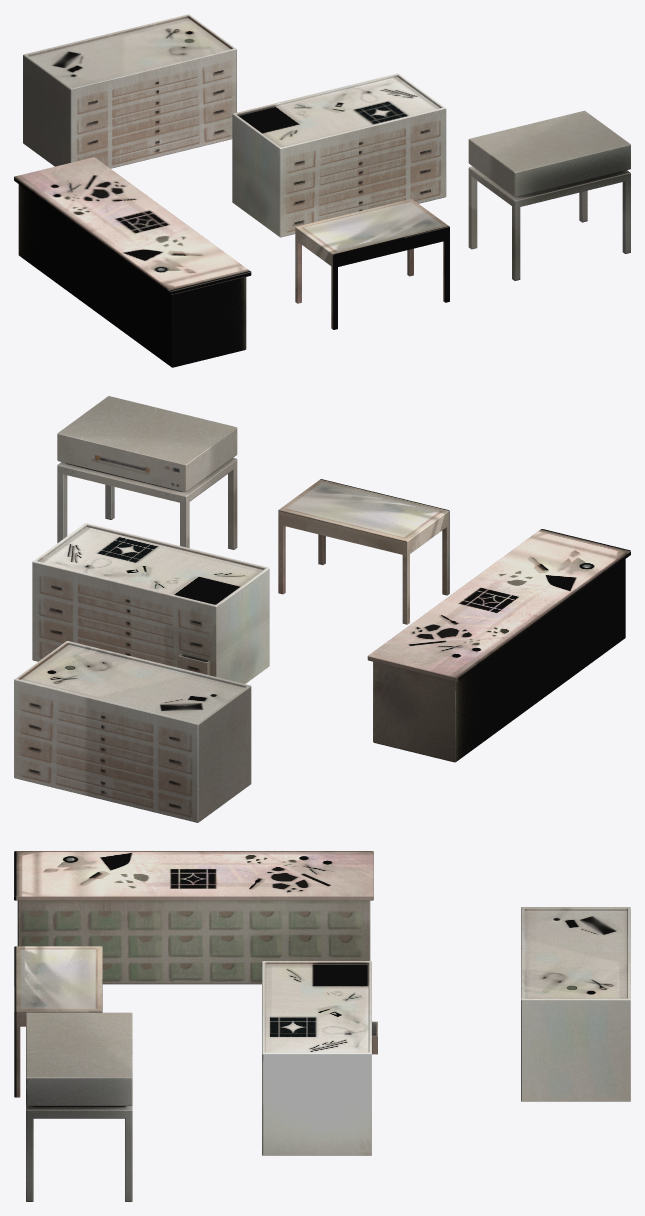
The model's file is atelier_v27.glb.
3 views of the same model, one above another, from view 1: azimuth 30°, elevation 25°; view 2: azimuth 150°, elevation 25°; view 3: azimuth 270°, elevation 25° (orthographic). The views are drawn at different scales.
Parts seen in each view (by area): view 1: tableBake; view 2: tableBake; view 3: tableBake.
Boxes of the visible parts, x1,y1,x2,y2 form: tableBake: [14, 14, 630, 367]; tableBake: [14, 396, 630, 822]; tableBake: [14, 851, 630, 1201].
Bounding box in the file's own units: 5.6 × 1.25 × 5.6.
Materials: 1 (1 with a texture image).
